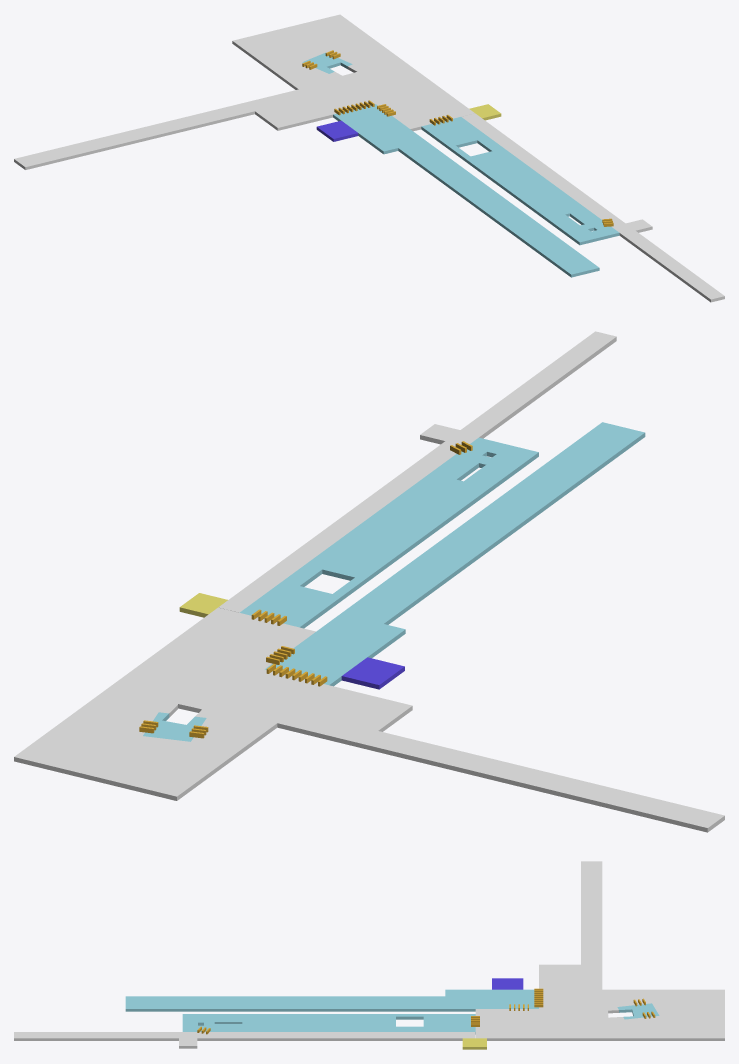
3 views of the same model, one above another, from view 1: azimuth 30°, elevation 25°; view 2: azimuth 150°, elevation 25°; view 3: azimuth 270°, elevation 25° (orthographic). The views are drawn at different scales.
Parts seen in each view (by area): view 1: 地下東口前通路, 地下2階通路, 地下鉄改札内通路, 地下自由通路, wc_B2F, 地下鉄中央改札内; view 2: 地下東口前通路, 地下2階通路, 地下鉄改札内通路, 地下自由通路, wc_B2F, 地下鉄中央改札内; view 3: 地下東口前通路, 地下2階通路, 地下鉄改札内通路, 地下自由通路, 地下鉄中央改札内, wc_B2F.
Part boxes in pixels (box(x1,y1,x2,y2)): 地下東口前通路: box(14, 14, 474, 169); 地下2階通路: box(333, 104, 599, 277); 地下鉄改札内通路: box(421, 117, 619, 245); 地下自由通路: box(461, 113, 724, 302); wc_B2F: box(316, 120, 358, 141); 地下鉄中央改札内: box(302, 52, 352, 73); 地下東口前通路: box(14, 607, 724, 832); 地下2階通路: box(265, 422, 645, 686); 地下鉄改札内通路: box(239, 437, 538, 628); 地下自由通路: box(218, 331, 616, 612); wc_B2F: box(341, 657, 404, 689); 地下鉄中央改札内: box(143, 712, 206, 741); 地下東口前通路: box(475, 861, 724, 1040); 地下2階通路: box(125, 989, 538, 1011); 地下鉄改札内通路: box(182, 1014, 475, 1034); 地下自由通路: box(14, 1032, 475, 1048); 地下鉄中央改札内: box(617, 1003, 659, 1019); wc_B2F: box(492, 978, 523, 989).
Bounding box in the file's own units: 14569 × 200 × 23571.
